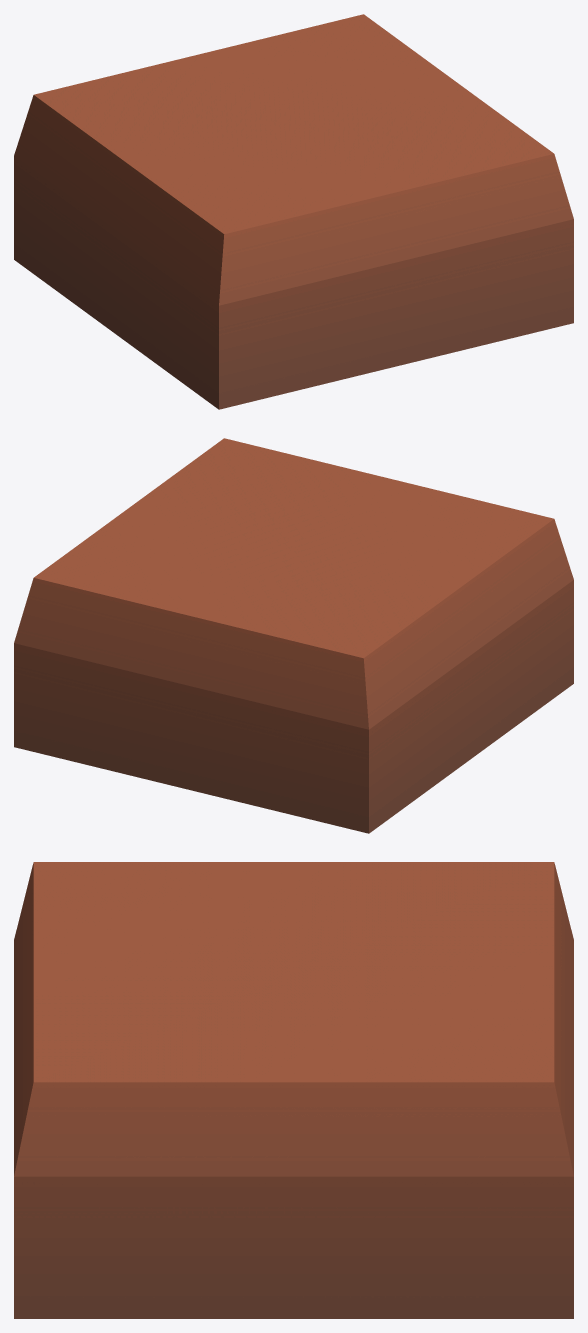
Rendered from tower-square-base-border.glb.
3 views of the same model, one above another, from view 1: azimuth 30°, elevation 25°; view 2: azimuth 150°, elevation 25°; view 3: azimuth 270°, elevation 25° (orthographic). The views are drawn at different scales.
Visible parts, largest first — view 1: tower-square-base-border; view 2: tower-square-base-border; view 3: tower-square-base-border.
Part boxes in pixels (x1,y1,x2,y2): tower-square-base-border: [14, 14, 573, 409]; tower-square-base-border: [14, 438, 573, 833]; tower-square-base-border: [14, 862, 573, 1318].
Bounding box in the file's own units: 3 × 1.35 × 3.
Materials: 1 (1 with a texture image).
